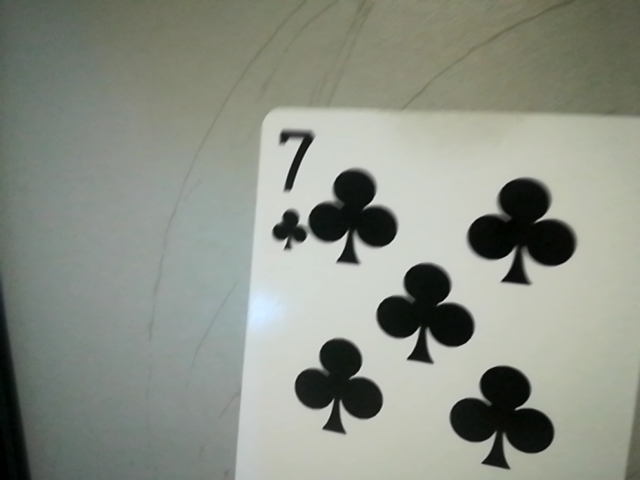mh 7: (259, 119, 315, 257)
